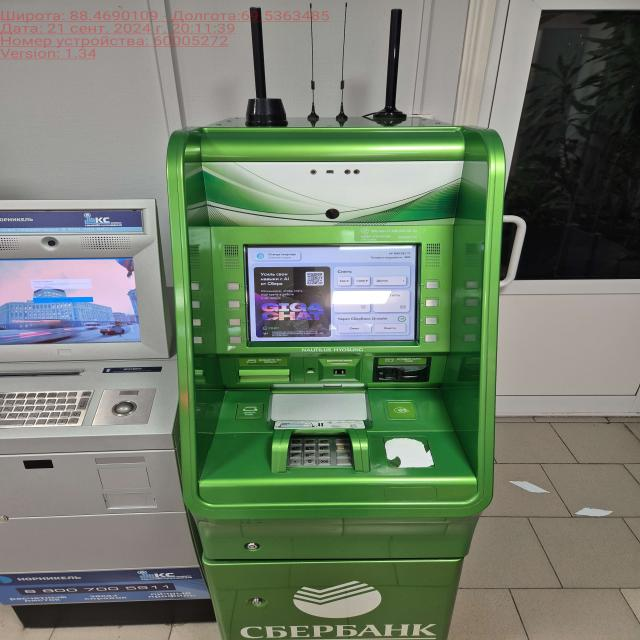bank: (161, 113, 494, 640)
